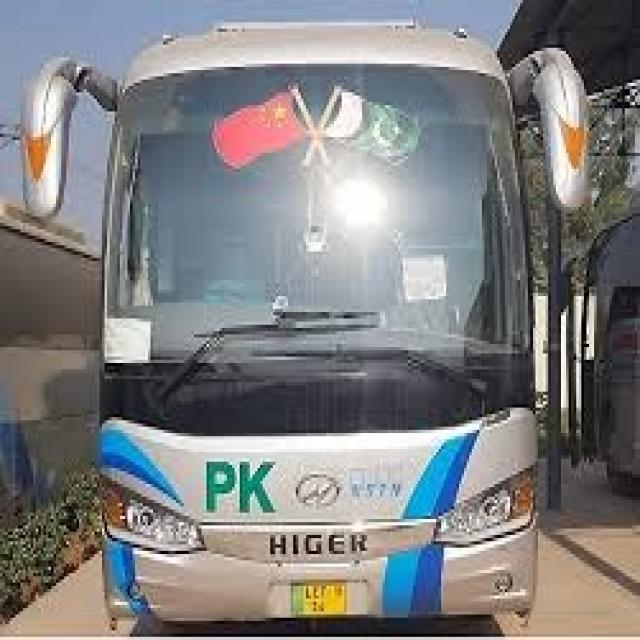bus: (18, 3, 622, 640)
